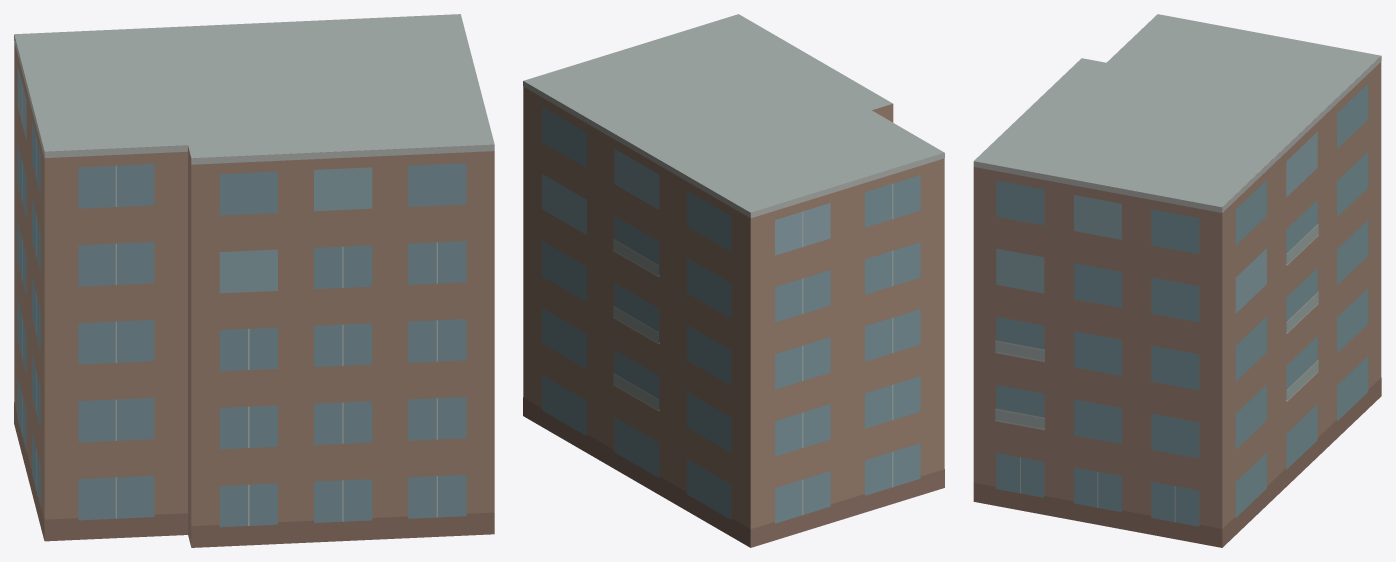
Rendered from survey-upis-32980659.glb.
3 renders of one model, left to right at view 1: azimuth 30°, elevation 25°; view 2: azimuth 150°, elevation 25°; view 3: azimuth 270°, elevation 25°, orthographic. The views are drawn at different scales.
Visible parts, largest first — view 1: survey-upis-32980659.tmp; view 2: survey-upis-32980659.tmp; view 3: survey-upis-32980659.tmp.
Part boxes in pixels (x1,y1,x2,y2): survey-upis-32980659.tmp: (14, 14, 494, 547); survey-upis-32980659.tmp: (523, 14, 944, 547); survey-upis-32980659.tmp: (973, 14, 1381, 547).
Bounding box in the file's own units: 17.78 × 14.6 × 15.85.
